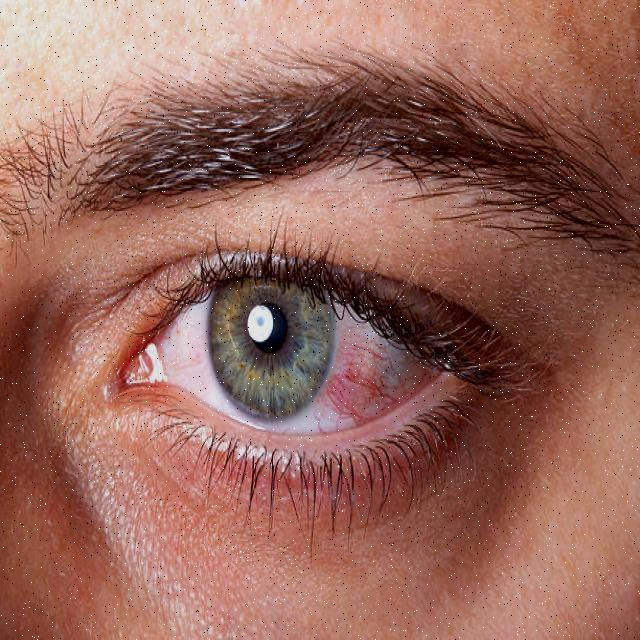Conjunctivitis: (108, 326, 468, 422)
